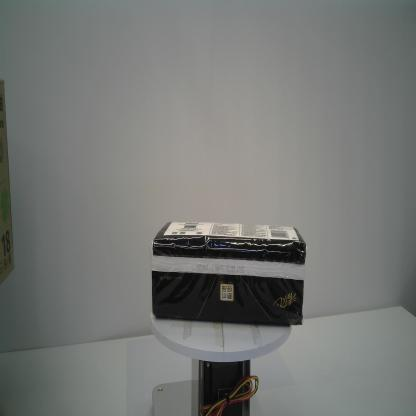Tissue: (150, 220, 308, 327)
